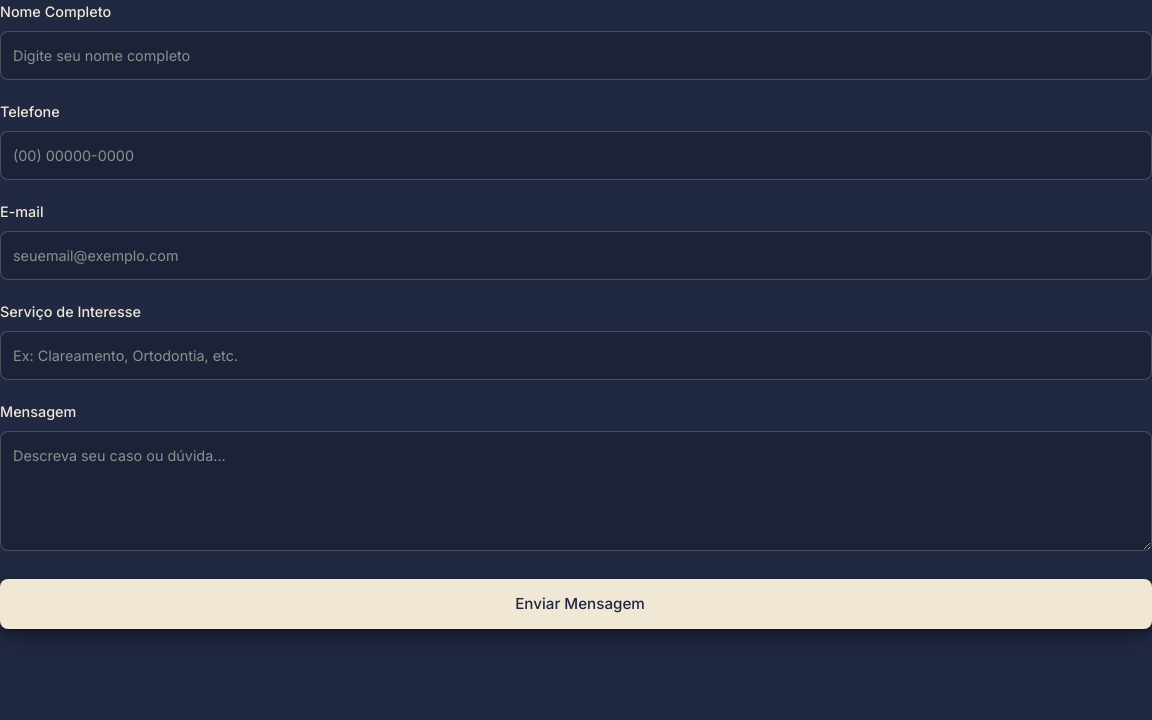
Scenario: ContactForm › mostra os erros por campo retornados pela API
Click the button "Enviar Mensagem": (576, 604) [0, 579, 1151, 629]
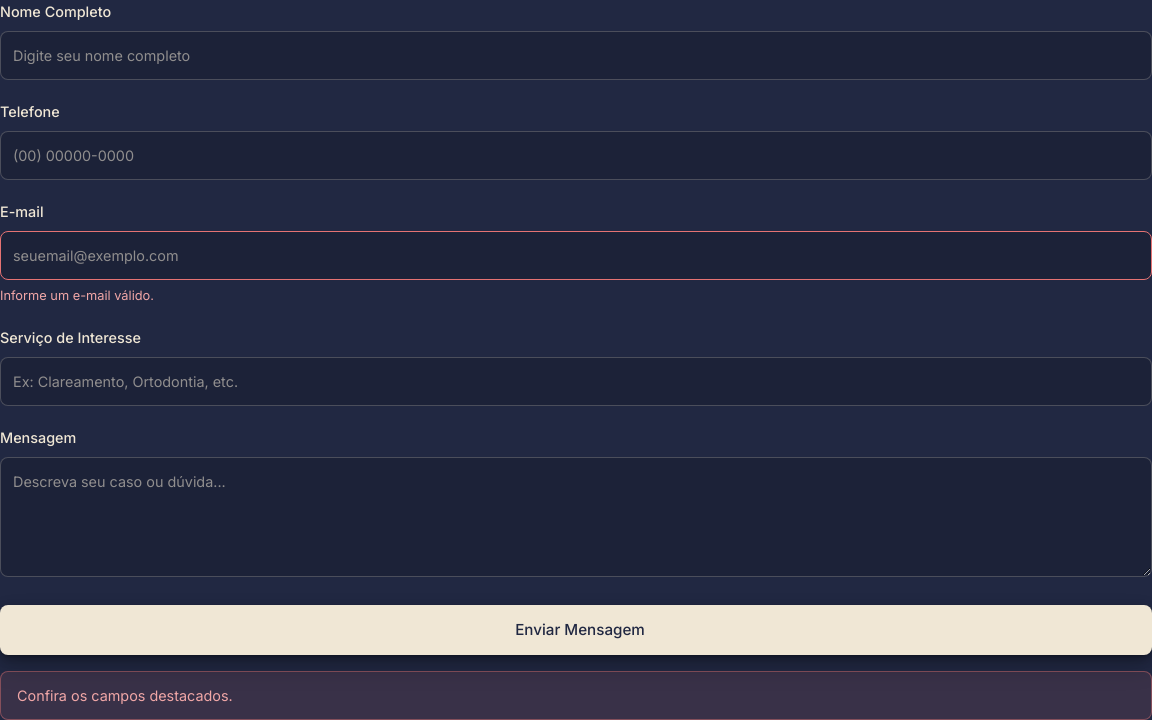
Check: the text "Informe um e-mail válido." is shown, box [0, 288, 154, 303]
